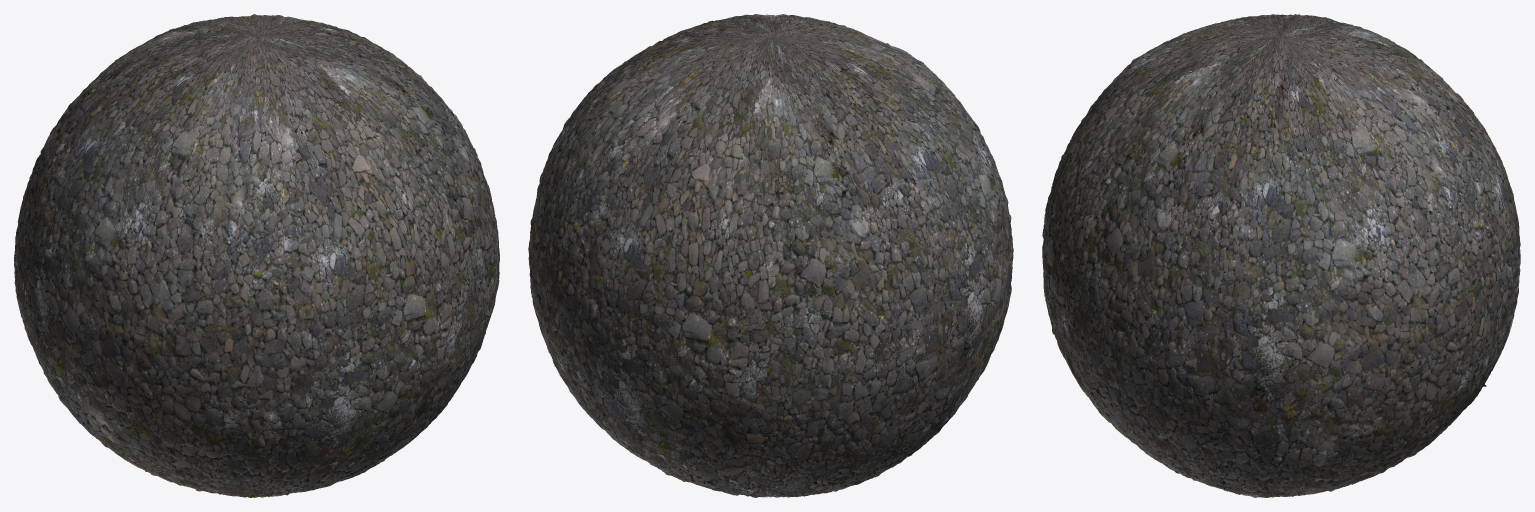
The model's file is defense_wall_1k.gltf.
3 views of the same model, side by side, from view 1: azimuth 30°, elevation 25°; view 2: azimuth 150°, elevation 25°; view 3: azimuth 270°, elevation 25° (orthographic).
Parts seen in each view (by area): view 1: sphere_gltf; view 2: sphere_gltf; view 3: sphere_gltf.
Boxes of the visible parts, x1=… form: sphere_gltf: x1=14, y1=14, x2=499, y2=497; sphere_gltf: x1=528, y1=14, x2=1013, y2=497; sphere_gltf: x1=1042, y1=14, x2=1520, y2=497.
Size of the model in its own units: 20.17 by 20.19 by 19.9.
Materials: 1 (1 with a texture image).
